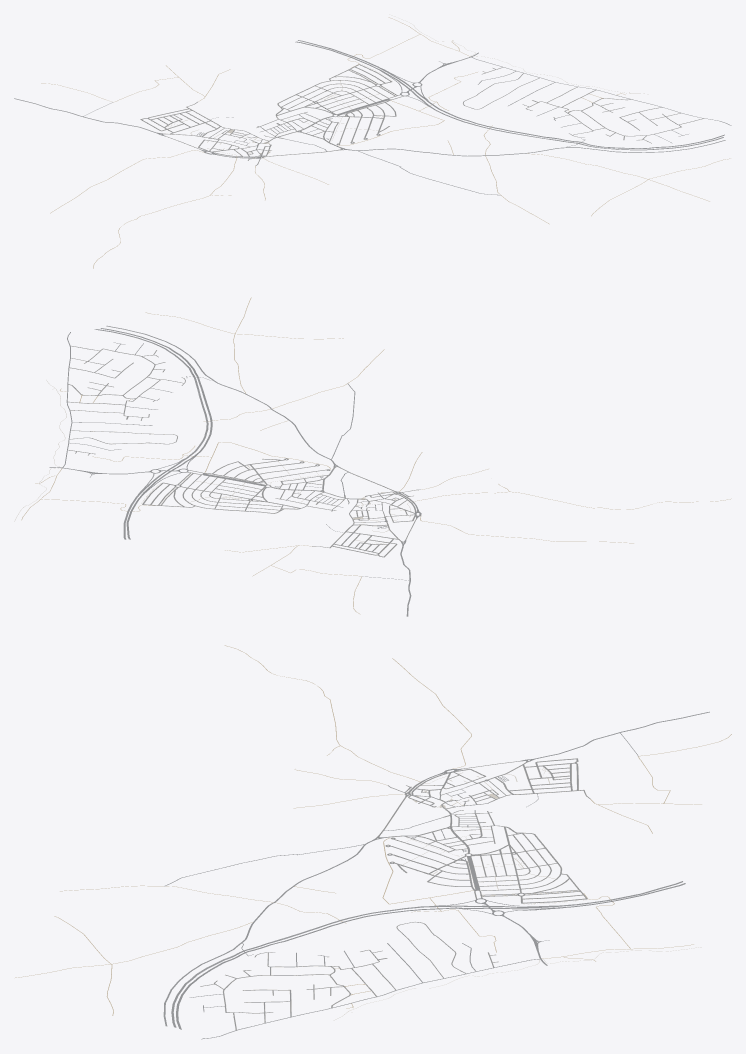
File: almensilla_roads.glb
3 renders of one model, top to bottom at view 1: azimuth 30°, elevation 25°; view 2: azimuth 150°, elevation 25°; view 3: azimuth 270°, elevation 25°, orthographic. The views are drawn at different scales.
Visible parts, largest first — view 1: ROAD_carriageway_1_1, ROAD_carriageway_2_1, ROAD_carriageway_-1_0, ROAD_carriageway_0_0, ROAD_carriageway_-1_1; view 2: ROAD_carriageway_1_1, ROAD_carriageway_2_1, ROAD_carriageway_-1_0; view 3: ROAD_carriageway_2_1, ROAD_carriageway_1_1, ROAD_carriageway_-1_0, ROAD_carriageway_0_0, ROAD_sidewalk_1_1, ROAD_carriageway_-1_1.
Part boxes in pixels (x1,y1,x2,y2): ROAD_carriageway_1_1: [294, 80, 383, 118]; ROAD_carriageway_2_1: [354, 70, 425, 103]; ROAD_carriageway_-1_0: [209, 135, 292, 165]; ROAD_carriageway_0_0: [269, 119, 354, 154]; ROAD_carriageway_-1_1: [171, 115, 261, 144]; ROAD_carriageway_1_1: [183, 474, 279, 511]; ROAD_carriageway_2_1: [131, 463, 214, 498]; ROAD_carriageway_-1_0: [348, 483, 420, 515]; ROAD_carriageway_2_1: [467, 885, 555, 923]; ROAD_carriageway_1_1: [467, 846, 555, 885]; ROAD_carriageway_-1_0: [388, 772, 467, 811]; ROAD_carriageway_0_0: [379, 811, 467, 848]; ROAD_sidewalk_1_1: [467, 847, 554, 885]; ROAD_carriageway_-1_1: [467, 772, 555, 811].
Size of the model in its own units: 5228 by 52.16 by 4074.
